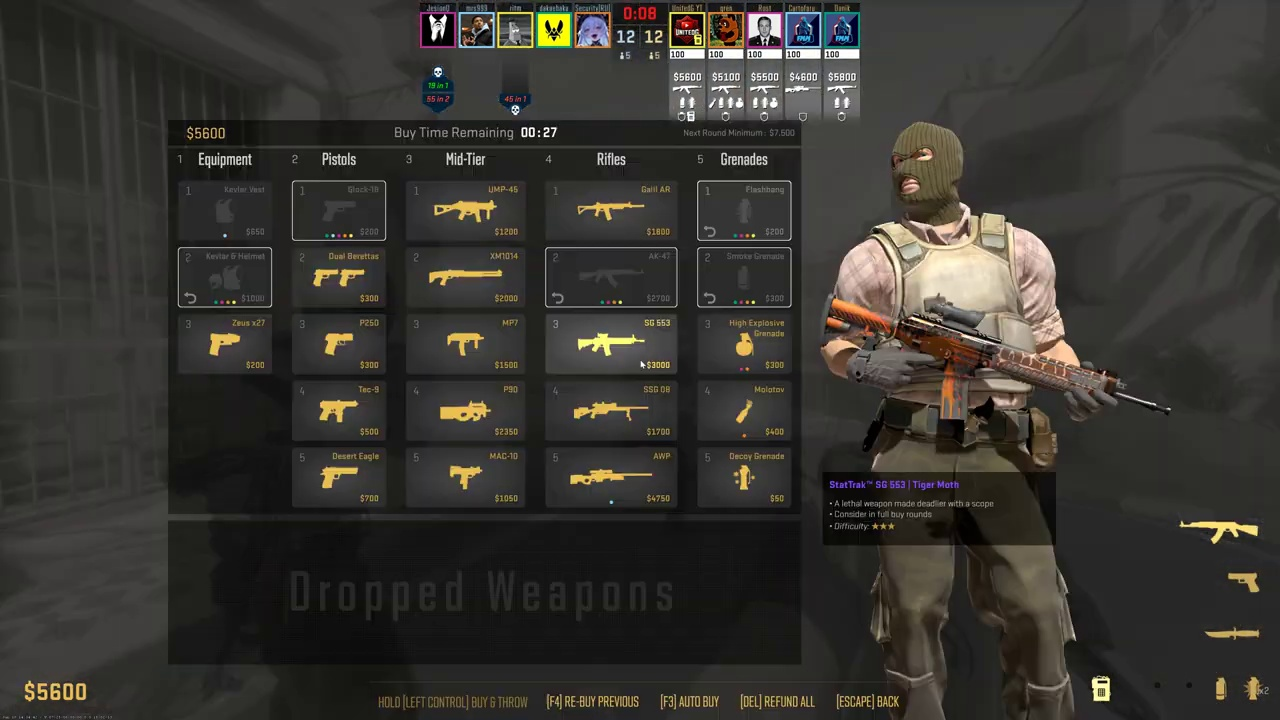Terrorist: (849, 126, 1075, 720)
